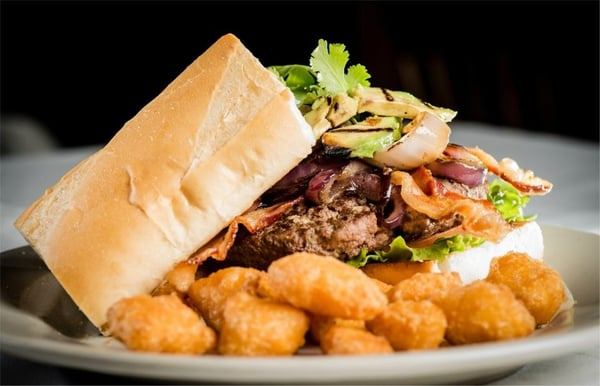soup: (12, 31, 527, 352), (10, 32, 318, 348)
